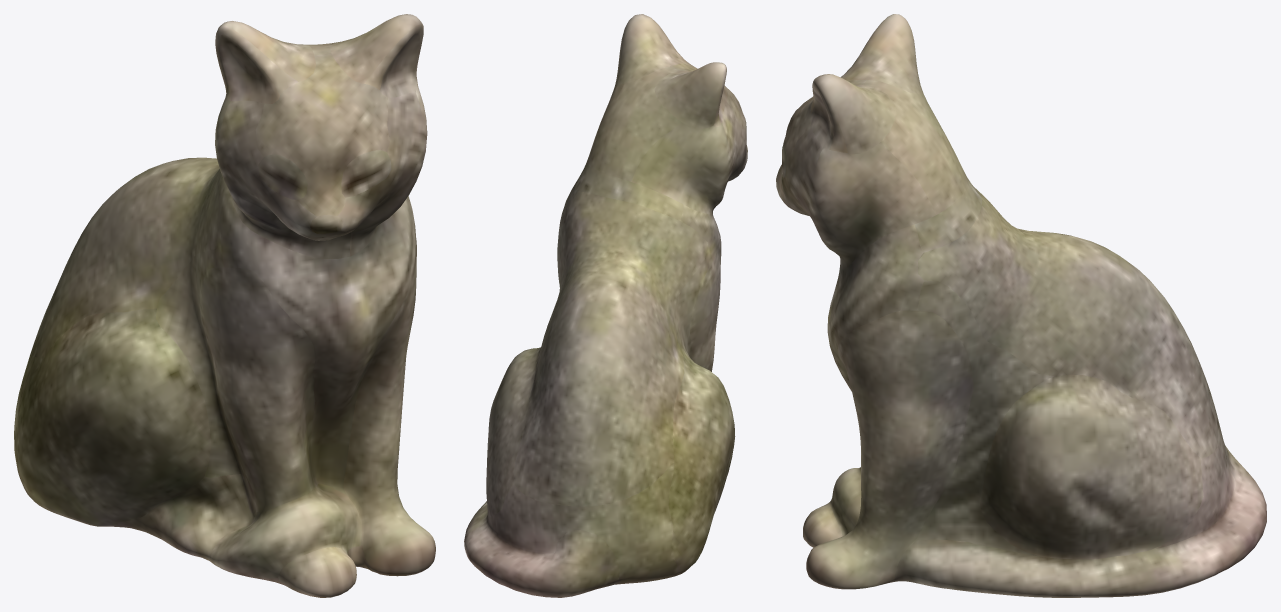
The model's file is stonecat.glb.
The picture shows the model from 3 angles, left to right: view 1: azimuth 30°, elevation 25°; view 2: azimuth 150°, elevation 25°; view 3: azimuth 270°, elevation 25°; orthographic projection. The views are drawn at different scales.
Parts seen in each view (by area): view 1: concrete_cat_statue; view 2: concrete_cat_statue; view 3: concrete_cat_statue.
Part boxes in pixels (box(x1,y1,x2,y2)): concrete_cat_statue: box(14, 14, 435, 597); concrete_cat_statue: box(464, 14, 747, 597); concrete_cat_statue: box(776, 14, 1266, 597).
Size of the model in its own units: 0.153 by 0.283 by 0.25.
Materials: 1 (1 with a texture image).
